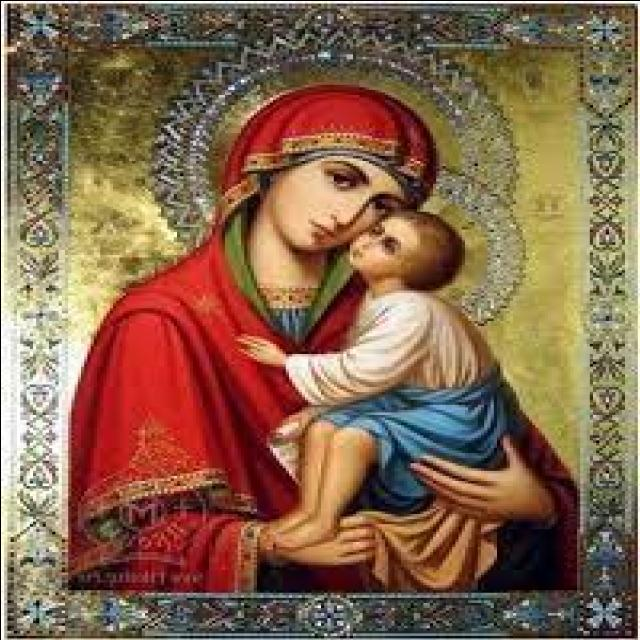mother of god: (64, 87, 534, 585)
